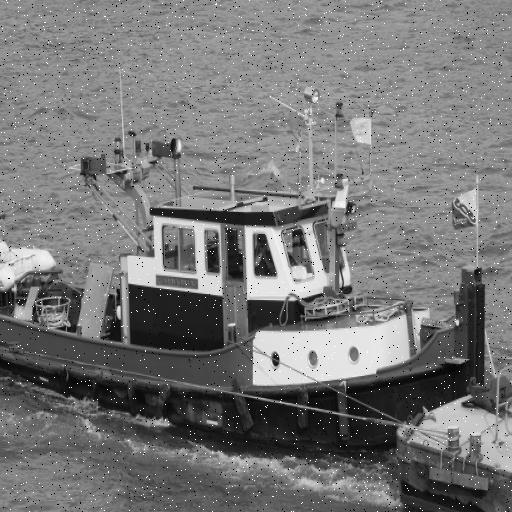tugboat: (1, 61, 500, 473)
